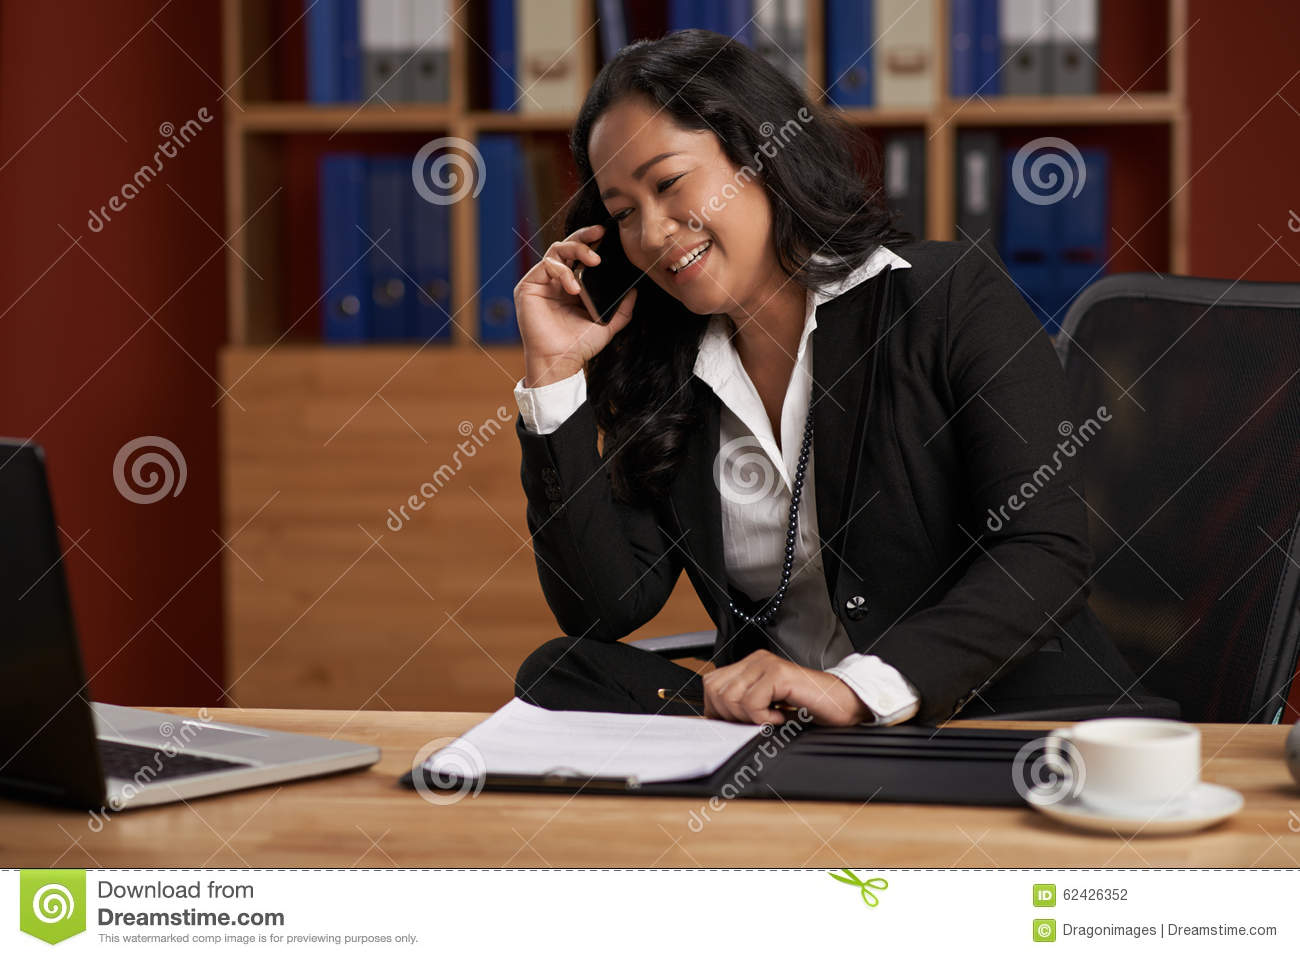phone: (570, 227, 647, 332)
talk: (513, 146, 750, 372)
